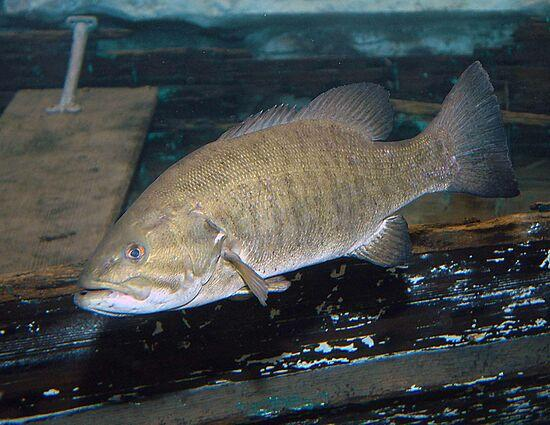Silver Perch: (74, 60, 531, 320)
